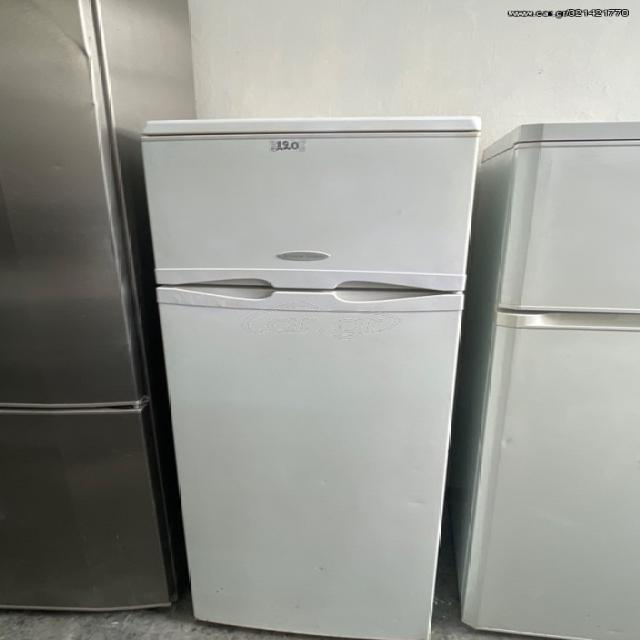refrigerator: (143, 121, 474, 640), (0, 0, 179, 606), (462, 120, 640, 639)
